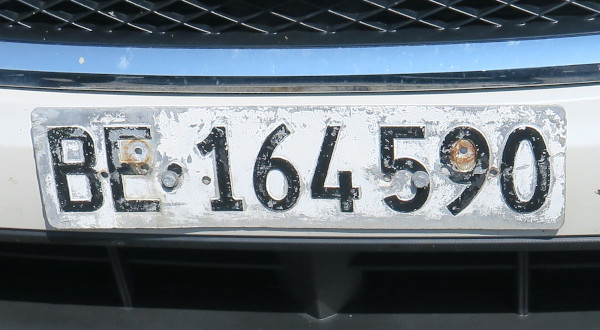license_plate: (30, 106, 569, 232)
